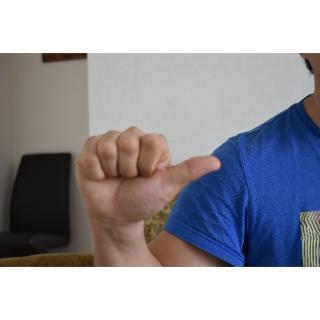DAD: (73, 124, 225, 238)
